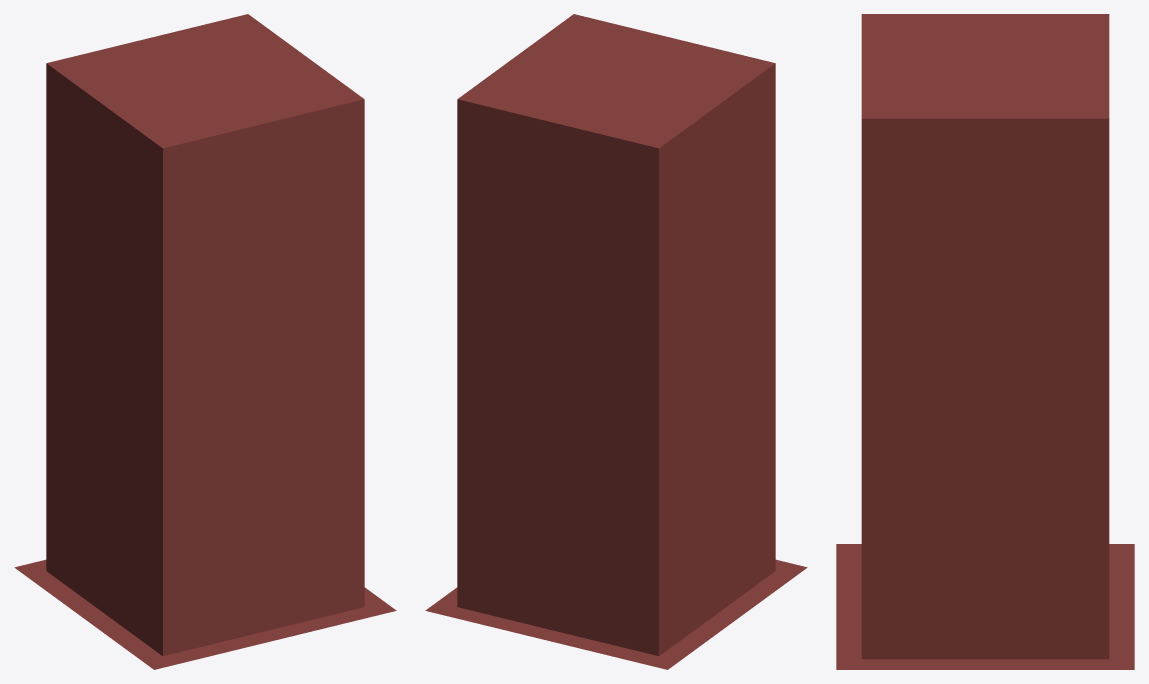
The model's file is 5x5 Office.fbx.
3 views of the same model, side by side, from view 1: azimuth 30°, elevation 25°; view 2: azimuth 150°, elevation 25°; view 3: azimuth 270°, elevation 25° (orthographic). The views are drawn at different scales.
Visible parts, largest first — view 1: 5x5 Office; view 2: 5x5 Office; view 3: 5x5 Office.
Boxes of the visible parts, x1,y1,x2,y2 form: 5x5 Office: [14, 14, 396, 669]; 5x5 Office: [425, 14, 807, 669]; 5x5 Office: [836, 14, 1134, 669].
Bounding box in the file's own units: 5 × 10 × 5.
